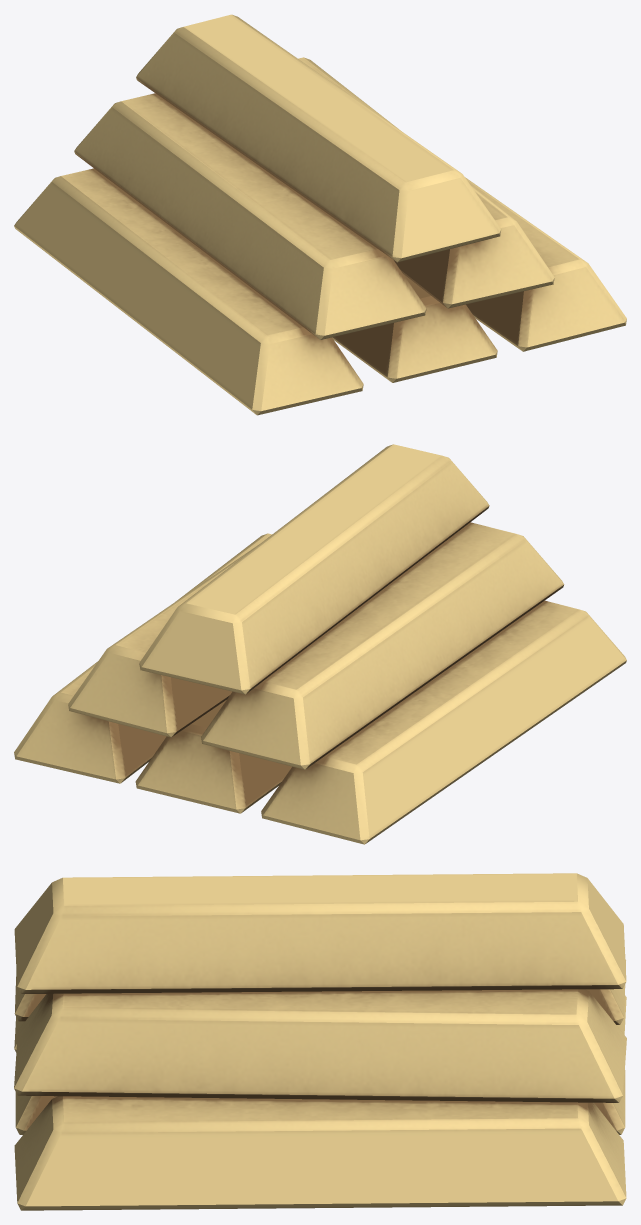
File: env_goldbar-000.fbx
3 views of the same model, one above another, from view 1: azimuth 30°, elevation 25°; view 2: azimuth 150°, elevation 25°; view 3: azimuth 270°, elevation 25° (orthographic). The views are drawn at different scales.
Parts seen in each view (by area): view 1: body.007; view 2: body.007; view 3: body.007.
Part boxes in pixels (x1,y1,x2,y2): body.007: (14,14,626,415); body.007: (14,444,626,844); body.007: (14,873,626,1210).
Size of the model in its own units: 143 by 65.4 by 169.
1 material, 1 textured.
